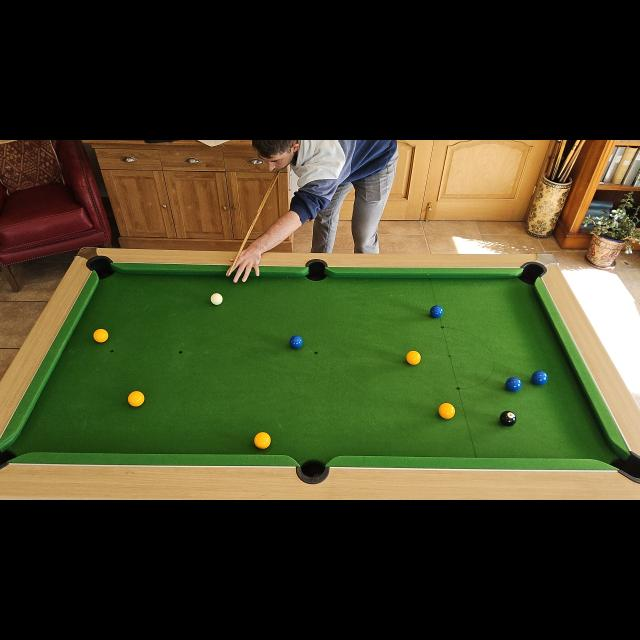Ball: (438, 402, 456, 420), (255, 432, 271, 450), (506, 376, 522, 392), (128, 391, 144, 407), (500, 411, 516, 427), (532, 370, 548, 386), (407, 351, 421, 365), (94, 329, 108, 343), (431, 306, 444, 318), (211, 293, 223, 305), (290, 336, 302, 348)
